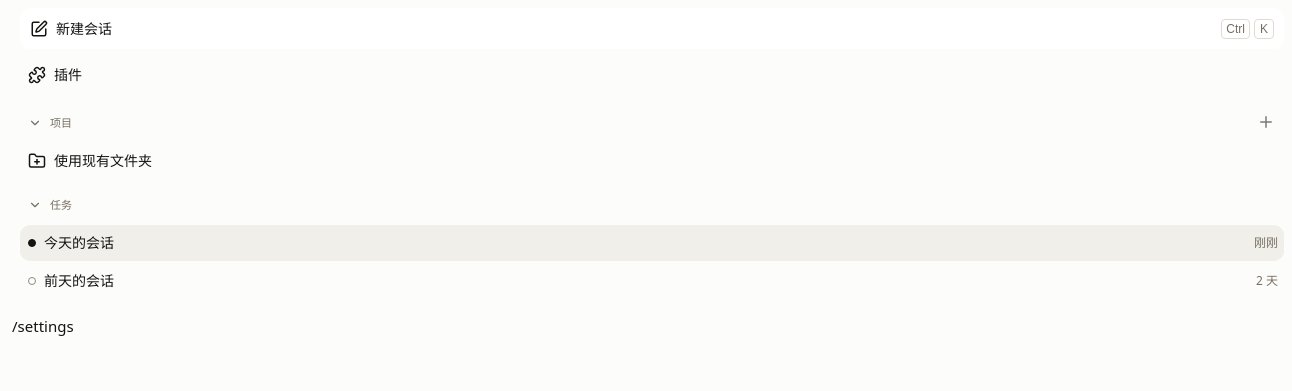
Scenario: SessionsController：新建 › 点新建：换上草稿（侧栏出现选中的"新会话"），并回到对话页
This screenshot has width=1292, height=391.
Check: the button with test id "session-item-t-a" is shown, box [20,225,1200,261]
Step 1. Click the button with test id "new-session" → (84,28), box [20,8,1284,49]
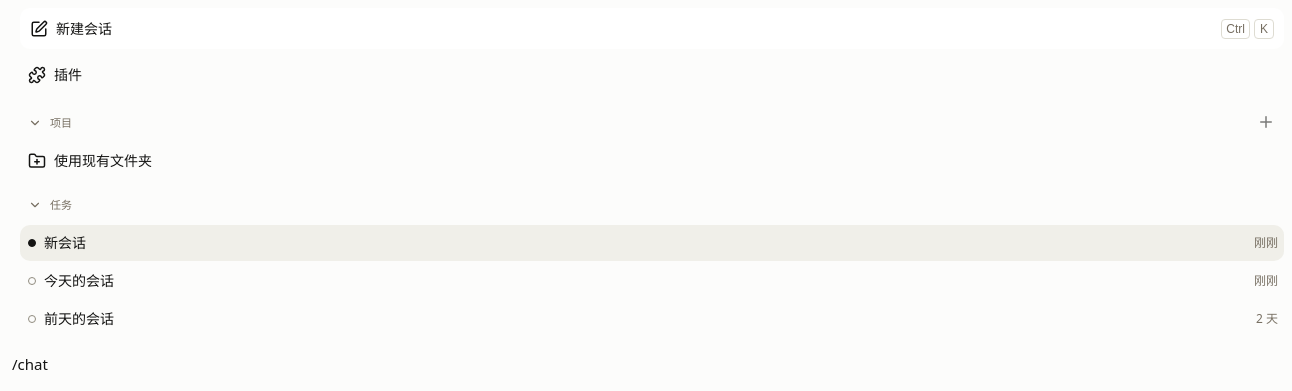
Check: the text with test id "location" reads "/chat", box [12,354,48,374]
